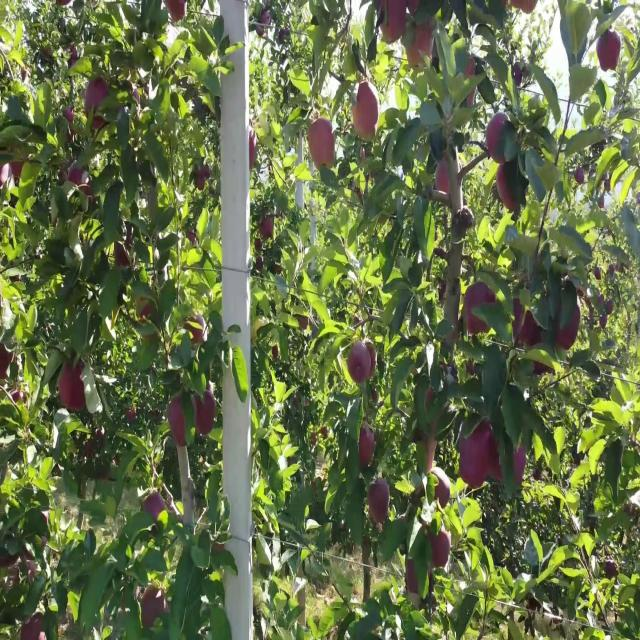apple: (460, 426, 498, 491), (460, 426, 492, 491), (464, 284, 498, 336), (468, 419, 499, 475), (512, 298, 543, 350), (352, 85, 380, 142), (496, 440, 528, 489), (308, 120, 336, 171), (60, 362, 88, 412), (348, 341, 377, 388), (408, 21, 435, 69), (380, 0, 408, 44), (556, 305, 582, 352), (596, 28, 623, 73), (488, 113, 510, 164), (368, 476, 391, 524), (496, 163, 518, 213), (144, 590, 168, 628), (196, 391, 216, 436), (356, 426, 376, 469), (464, 56, 480, 108), (432, 533, 452, 571), (144, 490, 167, 523), (172, 398, 187, 448), (436, 156, 452, 201), (596, 291, 614, 329), (432, 476, 452, 510), (408, 561, 427, 596), (88, 78, 108, 110), (172, 412, 188, 450), (140, 305, 154, 340), (0, 348, 15, 379), (196, 163, 212, 192), (168, 0, 188, 23), (116, 241, 131, 270), (24, 618, 44, 639), (512, 63, 527, 91), (64, 106, 76, 140), (260, 220, 276, 242), (64, 170, 84, 187), (516, 0, 537, 16), (0, 163, 11, 187), (300, 312, 311, 334), (192, 327, 205, 345), (408, 1, 421, 18), (12, 163, 24, 181), (96, 113, 106, 132), (252, 129, 257, 164), (576, 170, 586, 187), (68, 113, 76, 133), (128, 405, 136, 423), (12, 391, 22, 405), (272, 348, 280, 363), (72, 49, 79, 66)
